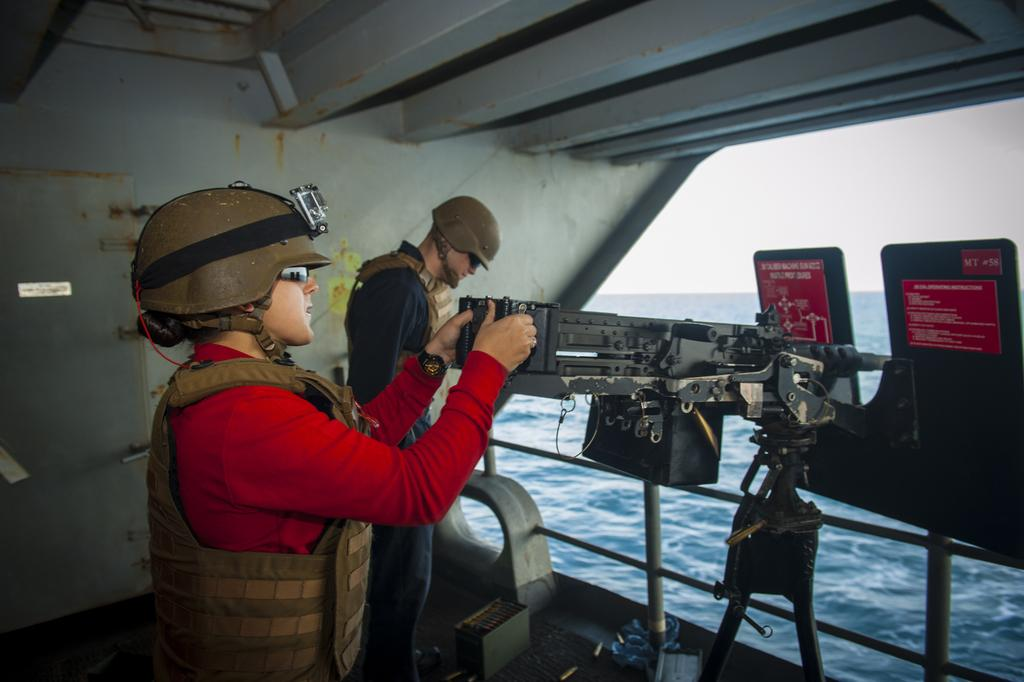Rifle: (458, 302, 892, 676)
